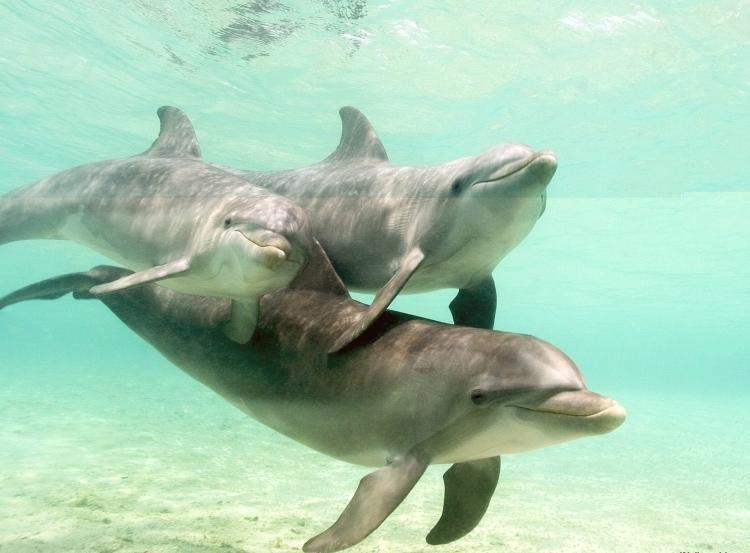fish: (6, 276, 626, 548), (1, 103, 316, 345), (222, 103, 562, 323)
